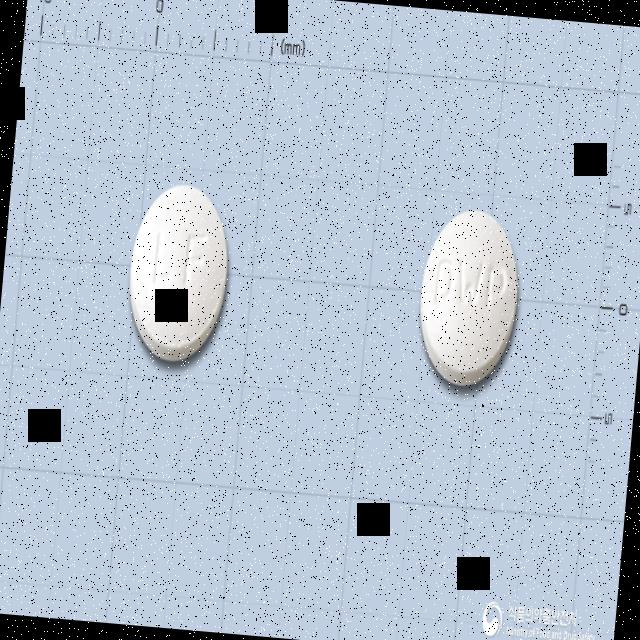Lefloxin: (121, 178, 235, 366), (412, 204, 524, 392)
